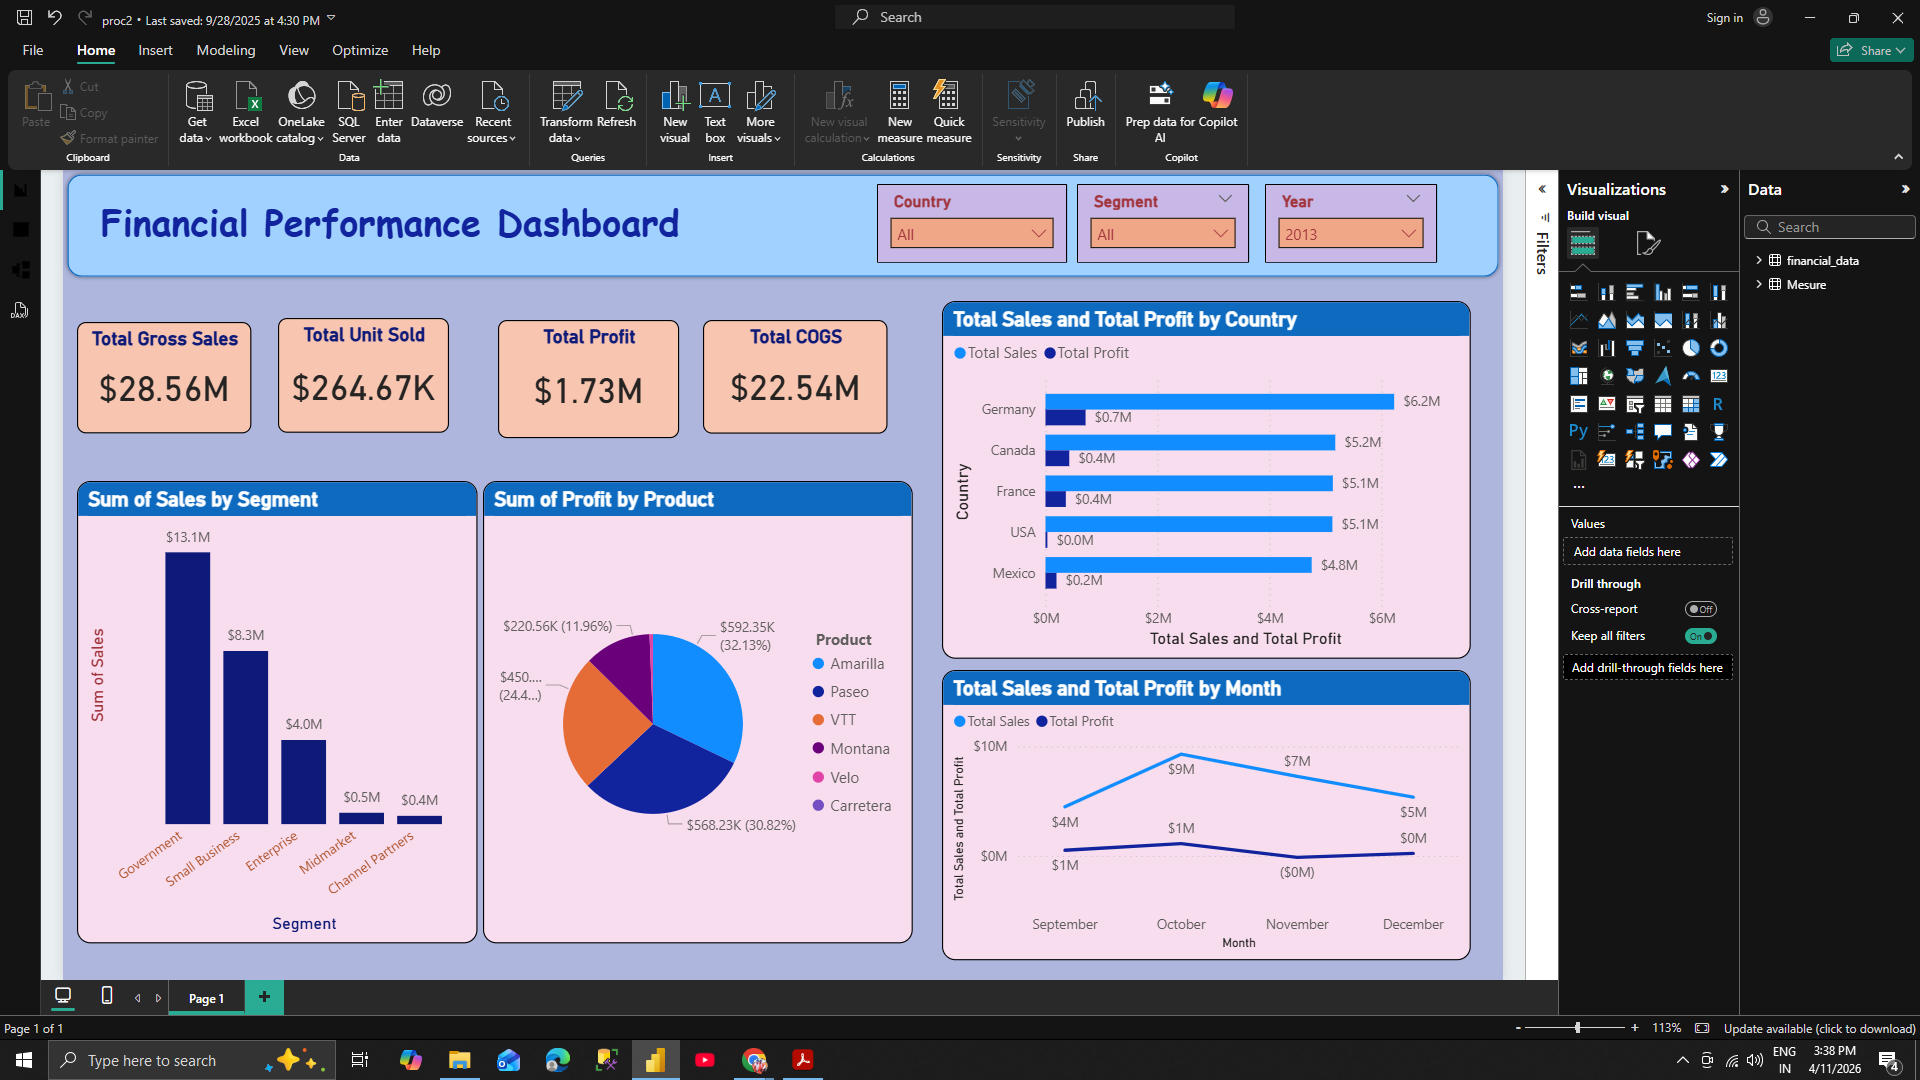

The dashboard page shown, as its layout file describes it:
{"tool":"powerbi","page":{"name":"Page 1","canvas":[1280,720],"ordinal":0},"visuals":[{"type":"shape","box":[0,0,1280,98.8],"z":0},{"type":"clusteredBarChart","fields":{"Category":["financial_data.Country"],"Y":["Mesure.Total Sales","Mesure.Total Profit"]},"box":[781,116.8,470.1,318.5],"z":3000},{"type":"lineChart","fields":{"Category":["financial_data.Date.Variation.Date Hierarchy.Month"],"Y":["Mesure.Total Sales","Mesure.Total Profit"]},"box":[781,444.4,470.1,257.8],"z":4000},{"type":"card","title":"Total Profit","fields":{"Values":["Sum(financial_data.Profit)"]},"box":[386.7,133.5,160.8,104.6],"z":5000},{"type":"card","title":"Total Gross Sales","fields":{"Values":["Mesure.Total Gross Sales"]},"box":[12.1,135,154.7,98.6],"z":6000},{"type":"card","title":"Total Unit Sold","fields":{"Values":["Sum(financial_data. Units Sold )"]},"box":[191.1,131.9,151.7,101.6],"z":7000},{"type":"slicer","fields":{"Values":["financial_data.Segment"]},"box":[901.2,12.5,152.5,70],"z":8000},{"type":"slicer","fields":{"Values":["financial_data.Country"]},"box":[723.8,12.5,168.8,70],"z":9000},{"type":"slicer","fields":{"Values":["financial_data.Year"]},"box":[1068.8,12.5,152.5,70],"z":10000},{"type":"pieChart","fields":{"Category":["financial_data. Product "],"Y":["Sum(financial_data.Profit)"]},"box":[373.1,276,382.2,411],"z":11000},{"type":"columnChart","fields":{"Y":["Sum(financial_data.  Sales )"],"Category":["financial_data.Segment"]},"box":[12.1,276,356.4,411],"z":12000},{"type":"card","title":"Total COGS","fields":{"Values":["Mesure.Total COGS"]},"box":[568.8,133.8,163.8,101.2],"z":13000},{"type":"textbox","box":[97.1,12.1,573.3,86.4],"z":14000}]}

Visuals, with their boxes on the page's 1280x720 design canvas (x1, y1, x2, y2). These are canvas units, not pixel positions in the 1920x1080 screenshot, which may show the page scaled, cropped or inside an application window:
shape: rect(0, 0, 1280, 99)
clusteredBarChart - financial_data.Country x Mesure.Total Sales: rect(781, 117, 1251, 435)
lineChart - financial_data.Date.Variation.Date Hierarchy.Month x Mesure.Total Sales: rect(781, 444, 1251, 702)
"Total Profit" card: rect(387, 134, 548, 238)
"Total Gross Sales" card: rect(12, 135, 167, 234)
"Total Unit Sold" card: rect(191, 132, 343, 234)
slicer - financial_data.Segment: rect(901, 12, 1054, 82)
slicer - financial_data.Country: rect(724, 12, 893, 82)
slicer - financial_data.Year: rect(1069, 12, 1221, 82)
pieChart - financial_data. Product  x Sum(financial_data.Profit): rect(373, 276, 755, 687)
columnChart - Sum(financial_data.  Sales ) x financial_data.Segment: rect(12, 276, 368, 687)
"Total COGS" card: rect(569, 134, 733, 235)
textbox: rect(97, 12, 670, 98)
